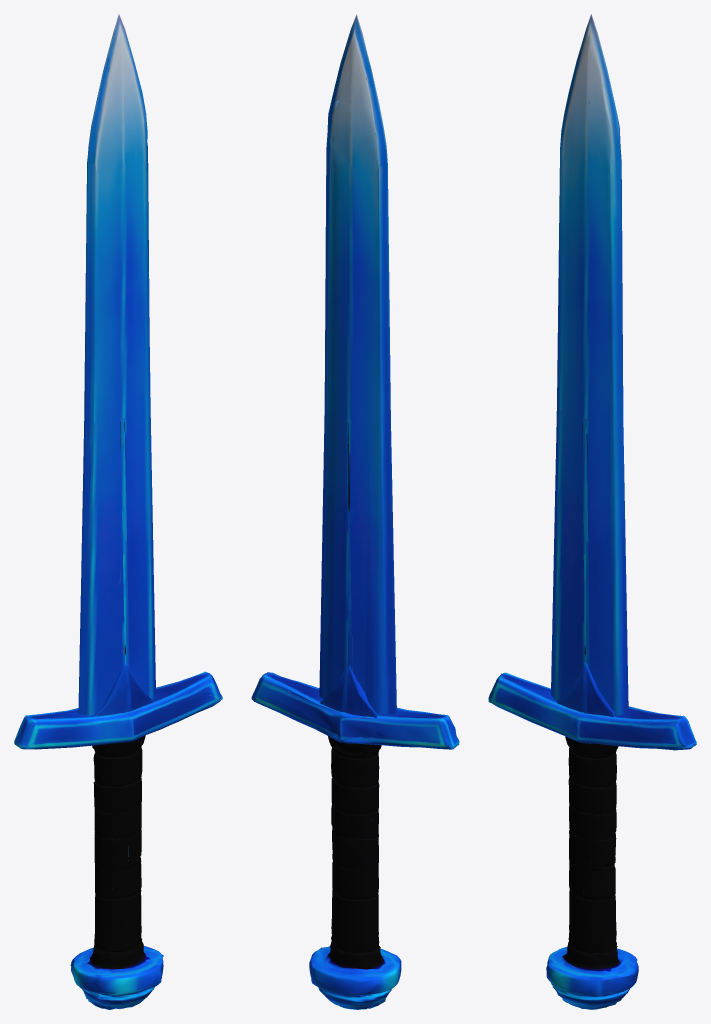
Rendered from epee.glb.
3 renders of one model, left to right at view 1: azimuth 30°, elevation 25°; view 2: azimuth 150°, elevation 25°; view 3: azimuth 330°, elevation 25°, orthographic.
Visible parts, largest first — view 1: geometry_0; view 2: geometry_0; view 3: geometry_0.
Part boxes in pixels (x1,y1,x2,y2): geometry_0: (14,14,222,1009); geometry_0: (251,14,459,1009); geometry_0: (488,14,696,1009).
Size of the model in its own units: 0.2036 by 0.9492 by 0.0728.
1 material, 1 textured.
